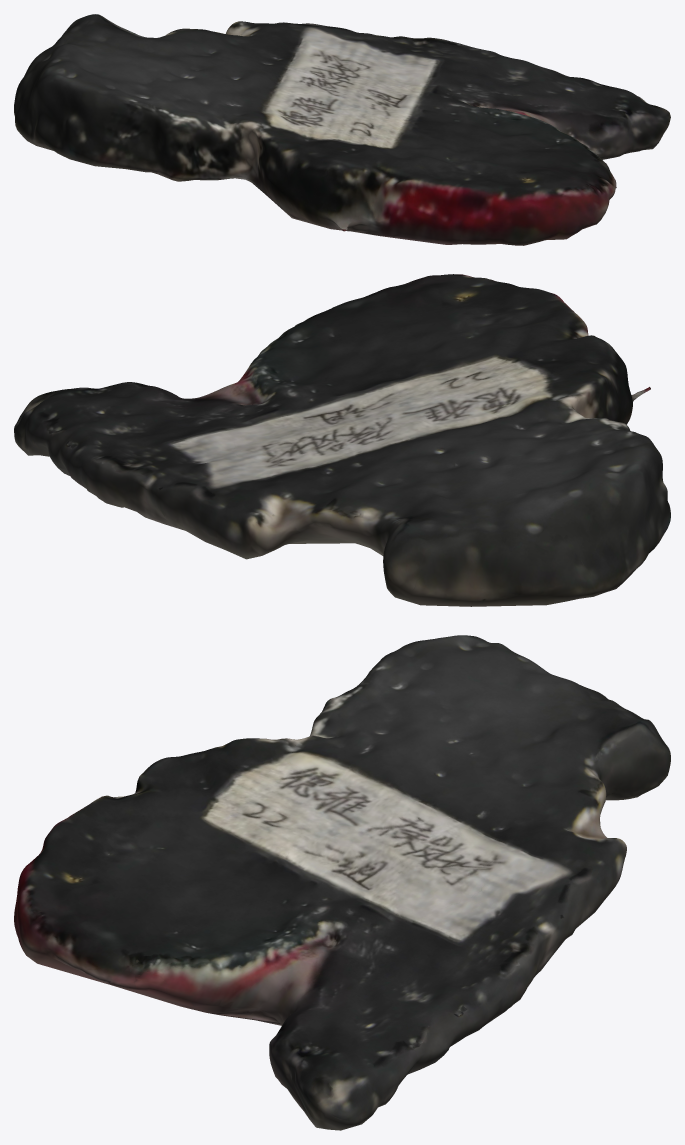
The picture shows the model from 3 angles, top to bottom: view 1: azimuth 30°, elevation 25°; view 2: azimuth 150°, elevation 25°; view 3: azimuth 270°, elevation 25°; orthographic projection. The views are drawn at different scales.
Bounding box in the file's own units: 0.7465 × 0.1996 × 0.632.
1 material, 1 textured.
